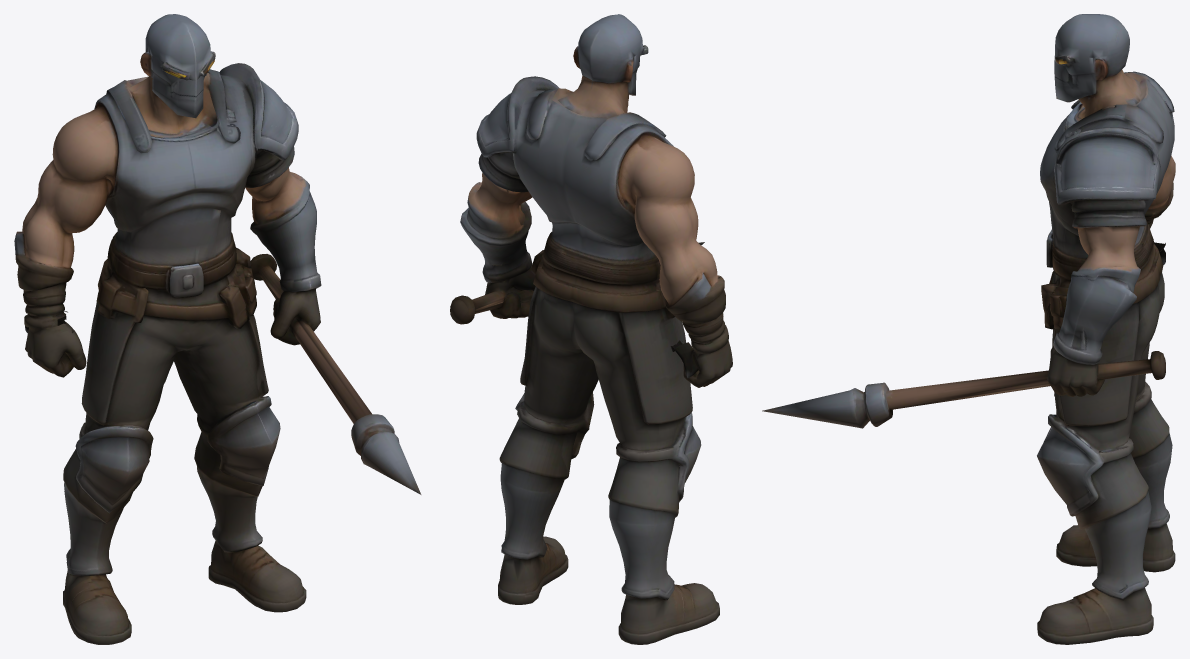
File: Industrial__anvil_realistic_style_4c900f59_v3.cluster.glb
The picture shows the model from 3 angles, left to right: view 1: azimuth 30°, elevation 25°; view 2: azimuth 150°, elevation 25°; view 3: azimuth 270°, elevation 25°; orthographic projection. The views are drawn at different scales.
Visible parts, largest first — view 1: texture_pbr_20250901; view 2: texture_pbr_20250901; view 3: texture_pbr_20250901.
Part boxes in pixels (<box>): texture_pbr_20250901: <box>14,14,421,644</box>; texture_pbr_20250901: <box>450,14,732,644</box>; texture_pbr_20250901: <box>762,14,1175,644</box>.
Size of the model in its own units: 0.9083 by 1.9 by 1.23.
1 material, 1 textured.
